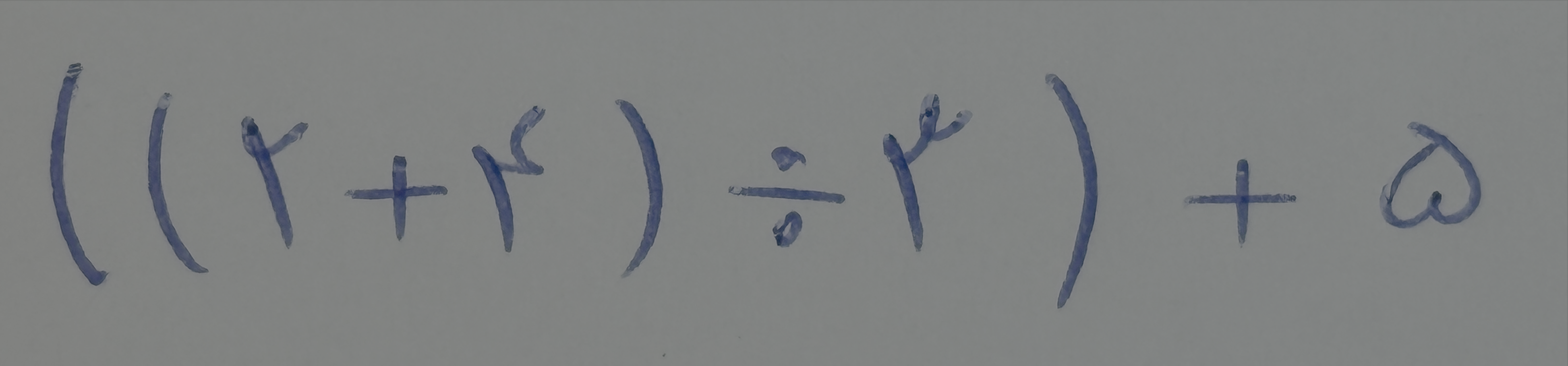character: (882, 93, 972, 250), (49, 62, 109, 287), (1045, 73, 1099, 309), (727, 146, 845, 249), (471, 104, 546, 254), (148, 93, 210, 274), (1379, 122, 1483, 228), (1183, 158, 1298, 246), (241, 115, 308, 250), (613, 100, 663, 278), (346, 154, 448, 241)
